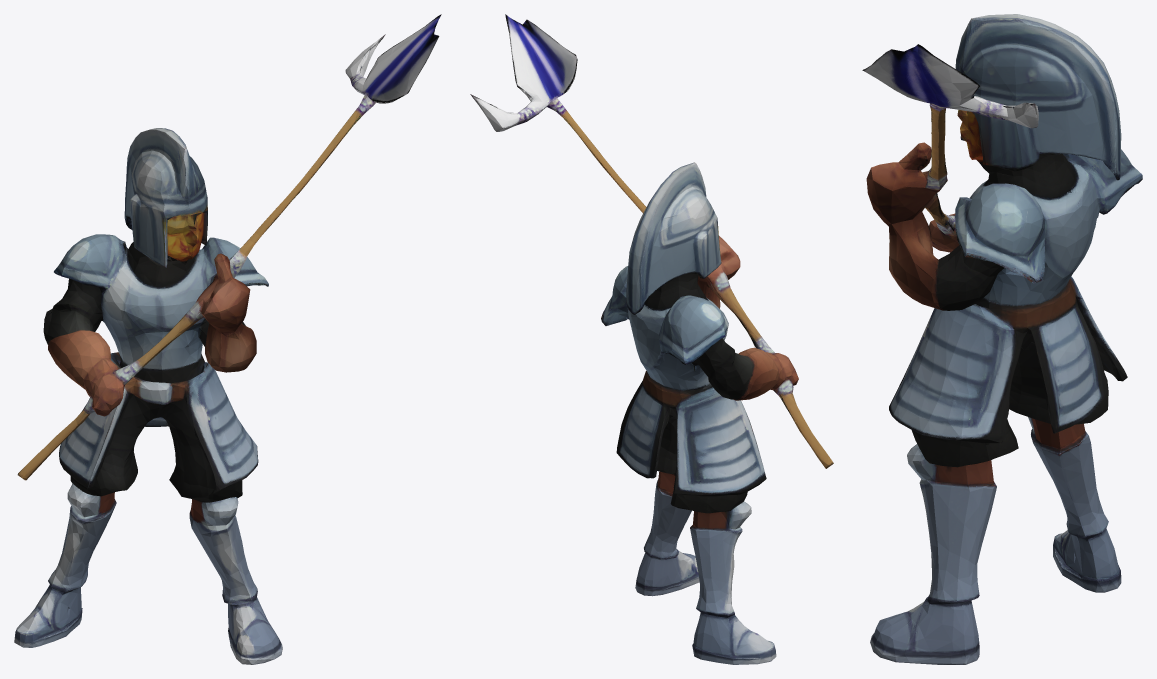
3 views of the same model, side by side, from view 1: azimuth 30°, elevation 25°; view 2: azimuth 150°, elevation 25°; view 3: azimuth 270°, elevation 25° (orthographic). The views are drawn at different scales.
Parts seen in each view (by area): view 1: world; view 2: world; view 3: world.
Part boxes in pixels (x1=…): world: x1=14, y1=14, x2=441, y2=664; world: x1=470, y1=14, x2=833, y2=664; world: x1=862, y1=14, x2=1142, y2=664.
Bounding box in the file's own units: 0.6988 × 0.9933 × 0.3503.
1 material, 1 textured.
